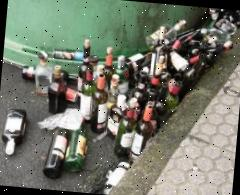glass: (0, 0, 236, 192)
